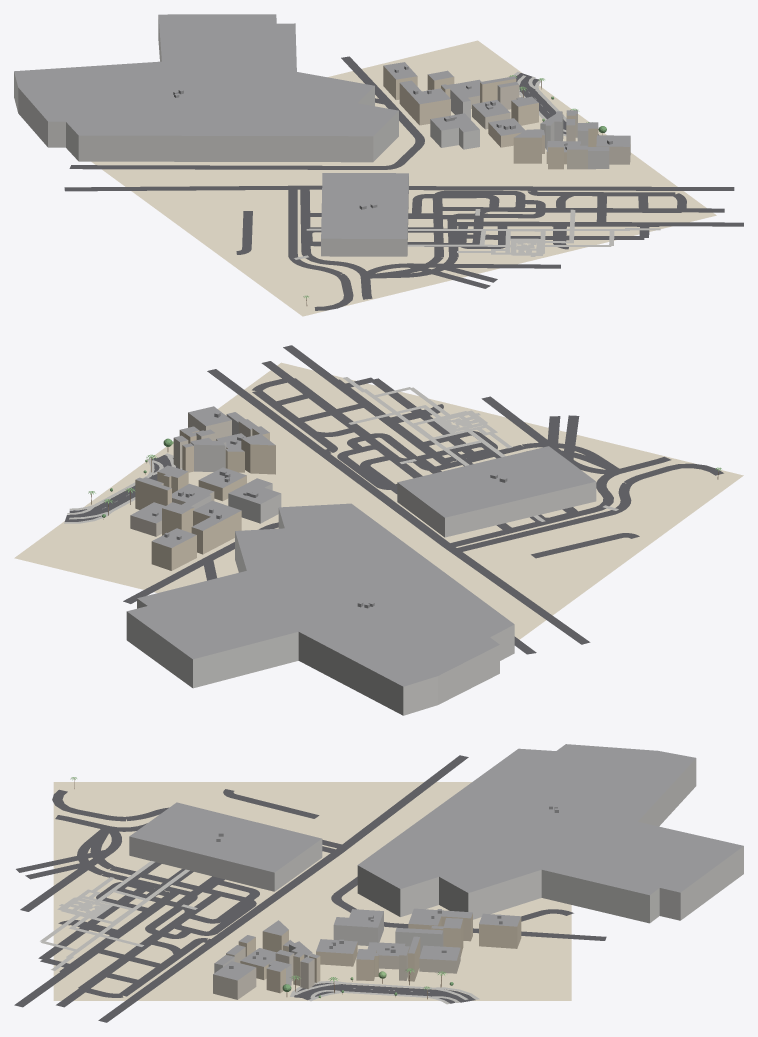
Rendered from tile_1_-1.glb.
The picture shows the model from 3 angles, top to bottom: view 1: azimuth 30°, elevation 25°; view 2: azimuth 150°, elevation 25°; view 3: azimuth 270°, elevation 25°; orthographic projection. The views are drawn at different scales.
Parts seen in each view (by area): view 1: nature_ground, buildings_roof, roads_asphalt, buildings_concrete_light, buildings_sandstone, roads_sidewalk, buildings_concrete_warm; view 2: buildings_roof, nature_ground, roads_asphalt, buildings_concrete_light, buildings_sandstone, roads_sidewalk, buildings_concrete_warm; view 3: nature_ground, buildings_roof, roads_asphalt, buildings_concrete_light, buildings_sandstone, roads_sidewalk, buildings_concrete_warm.
Part boxes in pixels (x1,y1,x2,y2): nature_ground: (91,40,716,316); buildings_roof: (14,14,630,238); roads_asphalt: (64,56,743,310); buildings_concrete_light: (14,15,609,256); buildings_sandstone: (383,66,598,169); roads_sidewalk: (294,71,660,259); buildings_concrete_warm: (468,84,630,169); buildings_roof: (127,406,595,686); nature_ground: (14,362,743,639); roads_asphalt: (64,345,723,654); buildings_concrete_light: (126,414,596,715); buildings_sandstone: (135,428,275,570); roads_sidewalk: (64,377,618,523); buildings_concrete_warm: (130,412,252,536); nature_ground: (53,782,571,1000); buildings_roof: (129,744,743,980); roads_asphalt: (14,755,606,1022); buildings_concrete_light: (129,758,743,985); buildings_sandstone: (238,913,521,993); roads_sidewalk: (40,861,479,1004); buildings_concrete_warm: (213,945,460,999).
Bounding box in the file's own units: 306 × 16.81 × 352.
